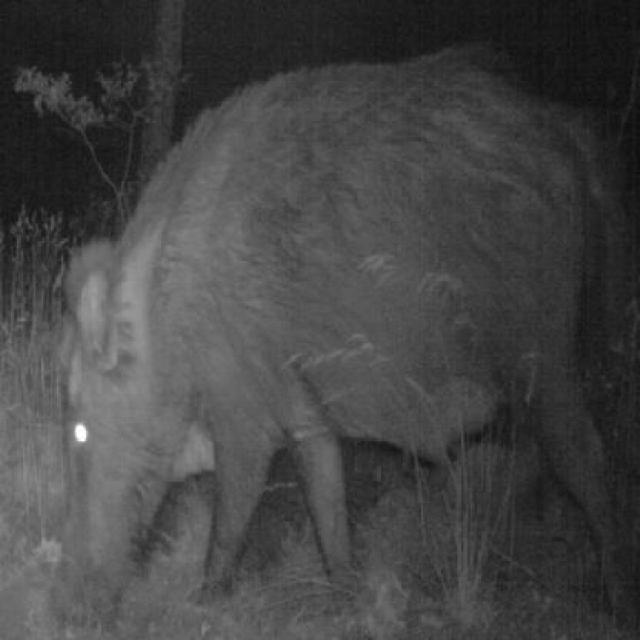WildBoar: (42, 47, 616, 605)
